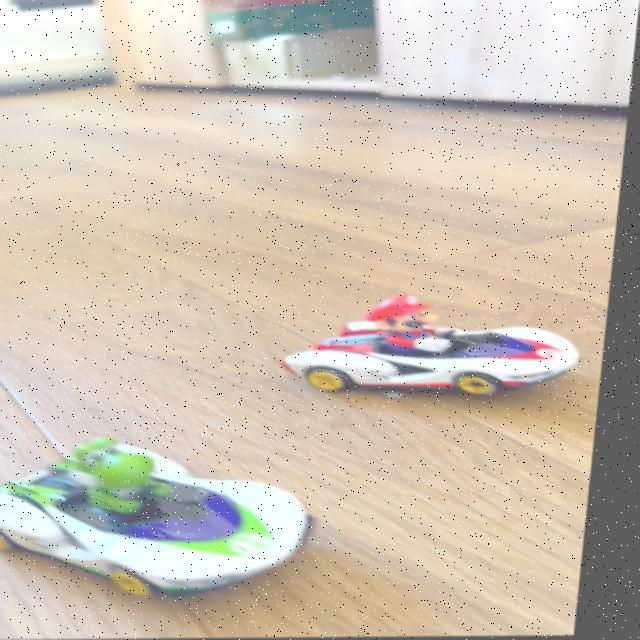mario: (282, 299, 604, 408)
yoshi: (0, 422, 347, 607)
